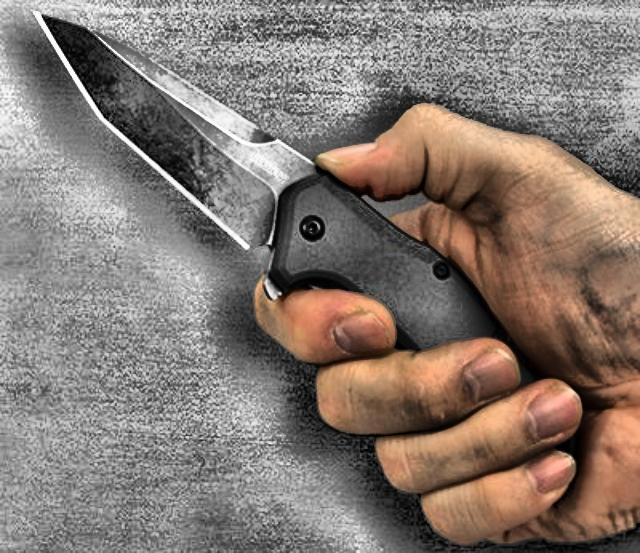knife: (22, 0, 582, 468)
